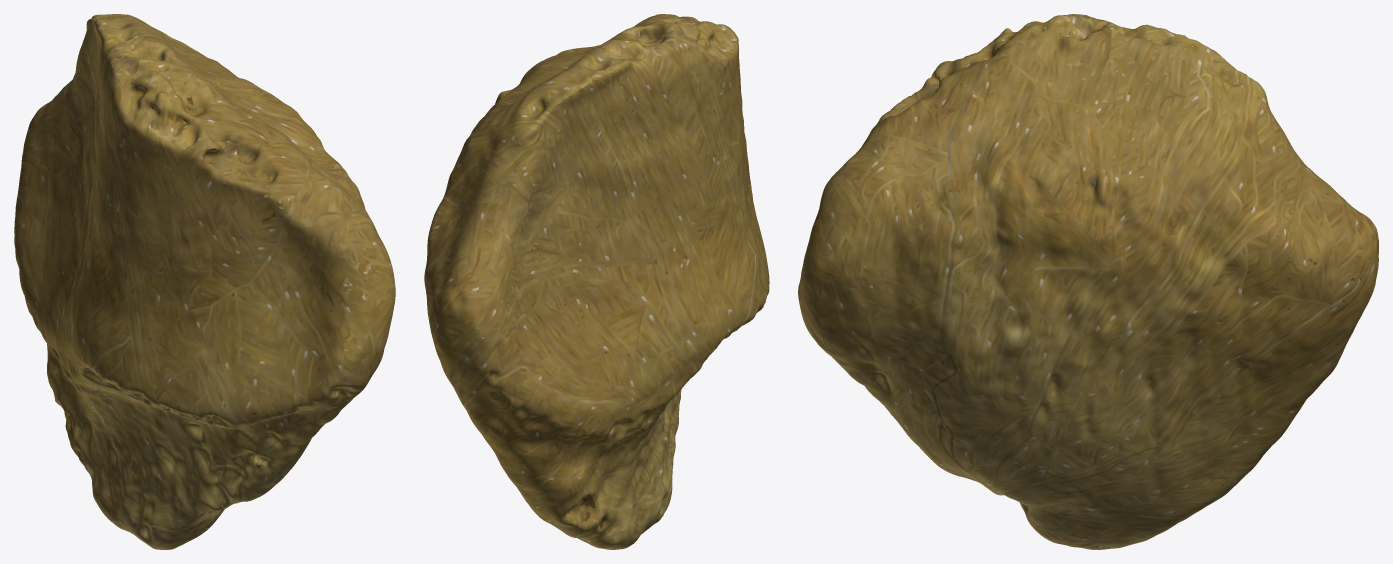
The model's file is human_patella.glb.
The picture shows the model from 3 angles, left to right: view 1: azimuth 30°, elevation 25°; view 2: azimuth 150°, elevation 25°; view 3: azimuth 270°, elevation 25°; orthographic projection. The views are drawn at different scales.
Parts seen in each view (by area): view 1: Object_2, Object_3, Object_5, Object_4; view 2: Object_2, Object_3, Object_5, Object_4; view 3: Object_3, Object_5, Object_4, Object_2.
Boxes of the visible parts, x1,y1,x2,y2 form: Object_2: [14, 14, 320, 416]; Object_3: [14, 70, 395, 433]; Object_5: [44, 206, 395, 487]; Object_4: [87, 384, 357, 549]; Object_2: [433, 14, 769, 397]; Object_3: [424, 45, 755, 486]; Object_5: [484, 204, 769, 545]; Object_4: [554, 389, 681, 549]; Object_3: [803, 126, 1378, 427]; Object_5: [798, 227, 1318, 498]; Object_4: [825, 327, 1231, 549]; Object_2: [856, 14, 1378, 272].
Size of the model in its own units: 22.35 by 47.45 by 48.42.
1 material, 1 textured.
